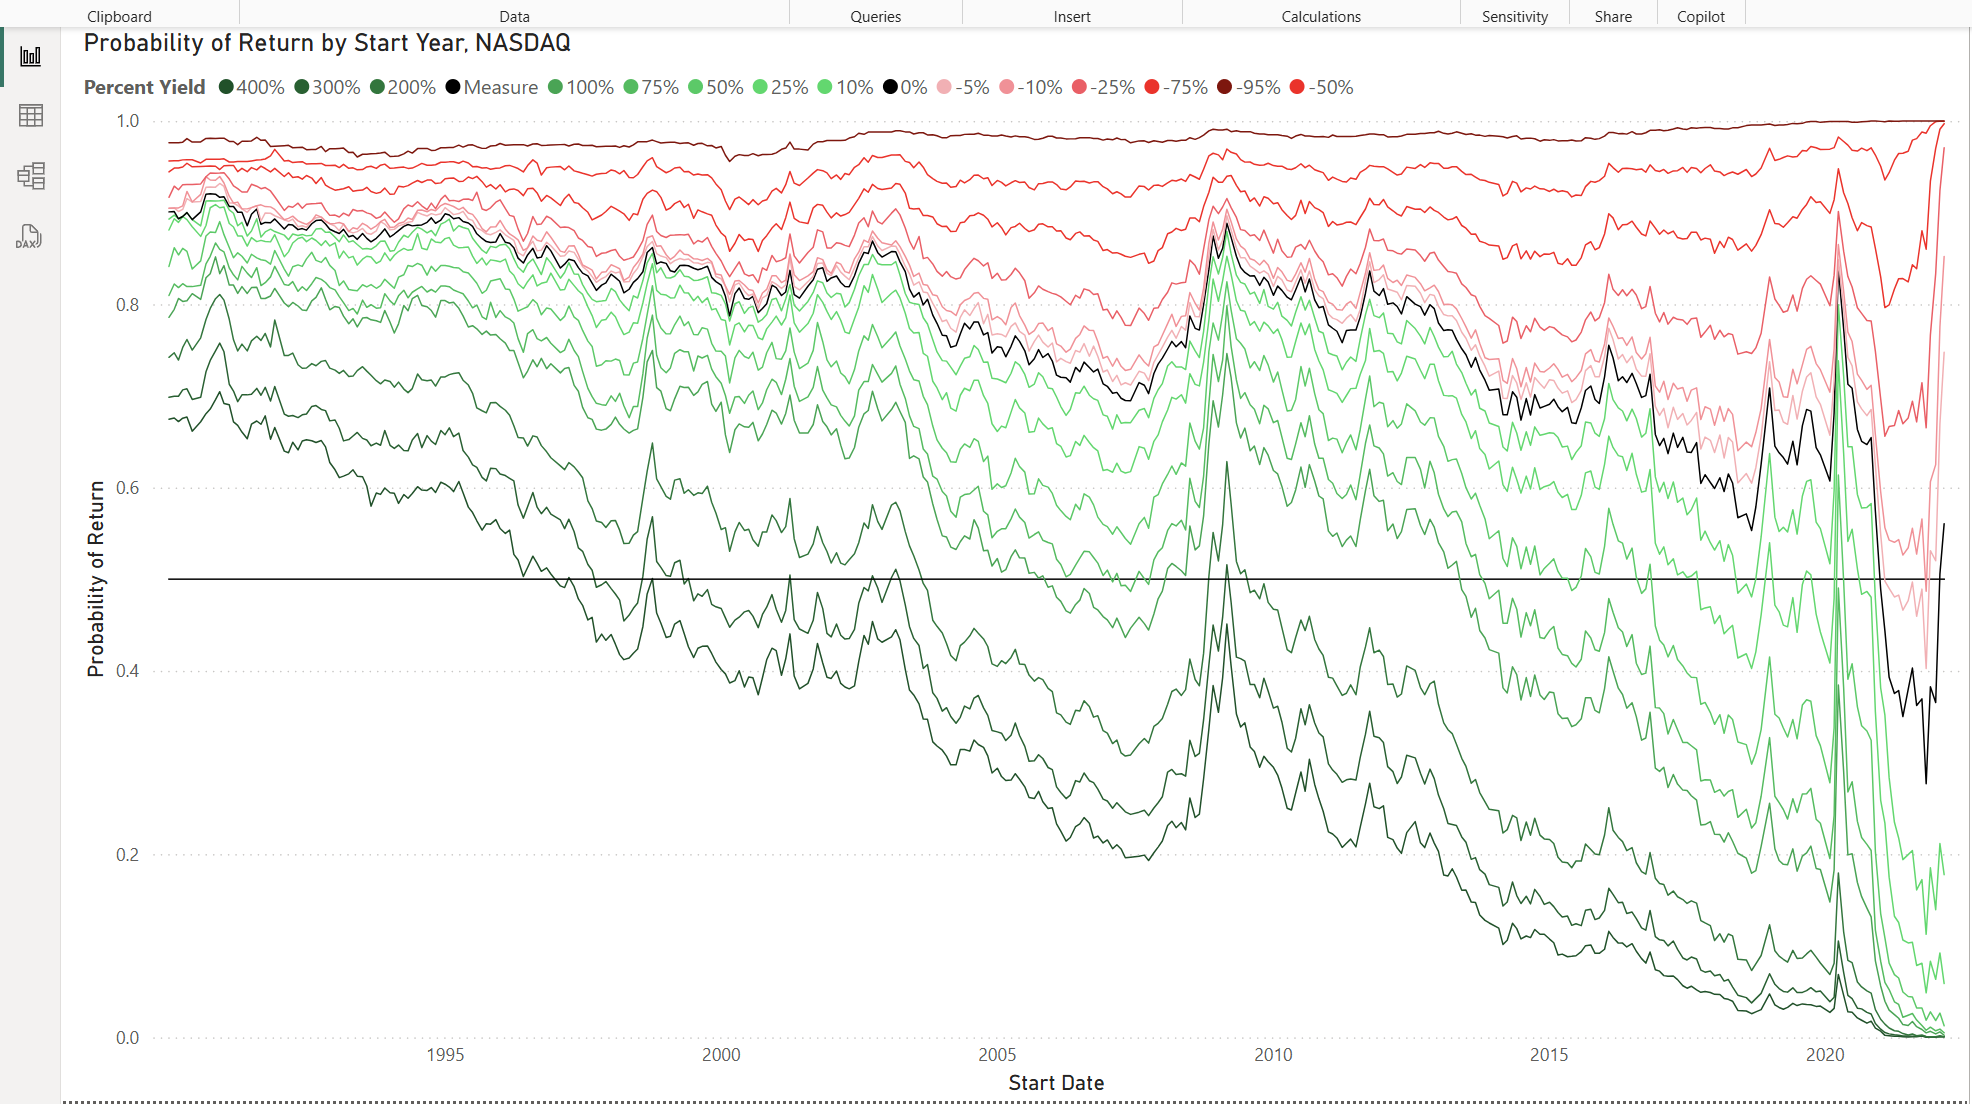

Layout of this report page (visuals, bound fields, positions):
{"tool":"powerbi","page":{"name":"Page 1","canvas":[1280,720],"ordinal":0},"visuals":[{"type":"areaChart","title":"Probability of Return by Start Year, NASDAQ","fields":{"Category":["home ioc_import.startdate"],"Y":["Sum(home ioc_import.a)","Sum(home ioc_import.b)","Sum(home ioc_import.c)","home ioc_import.Measure","Sum(home ioc_import.d)","Sum(home ioc_import.e)","Sum(home ioc_import.f)","Sum(home ioc_import.g)","Sum(home ioc_import.h)","Sum(home ioc_import.i)","Sum(home ioc_import.j)","Sum(home ioc_import.k)"]},"box":[10.1,0,1270.3,720.1],"z":0}]}

Visuals, with their boxes on the page's 1280x720 design canvas (x1, y1, x2, y2). These are canvas units, not pixel positions in the 1972x1104 screenshot, which may show the page scaled, cropped or inside an application window:
"Probability of Return by Start Year, NASDAQ" areaChart: l=10, t=0, r=1280, b=720
